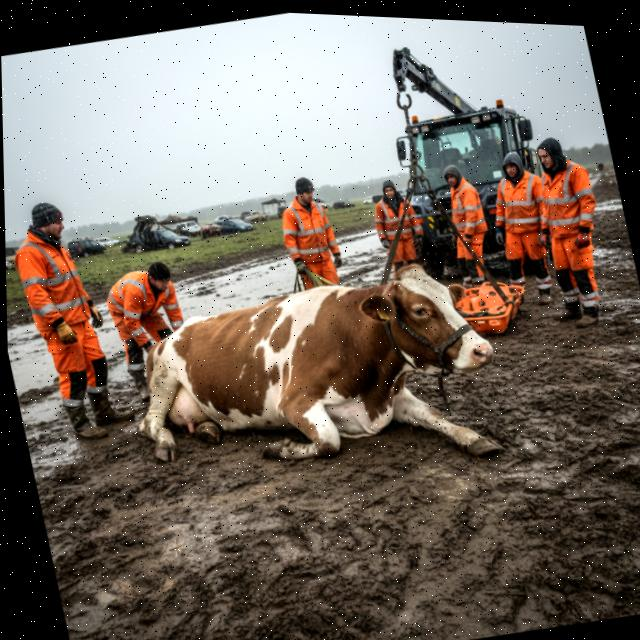cow: (102, 227, 536, 525)
rescuer: (4, 185, 144, 456), (523, 131, 625, 333), (83, 239, 202, 399), (270, 165, 357, 309), (482, 143, 562, 299), (432, 158, 499, 301), (360, 163, 429, 285)
